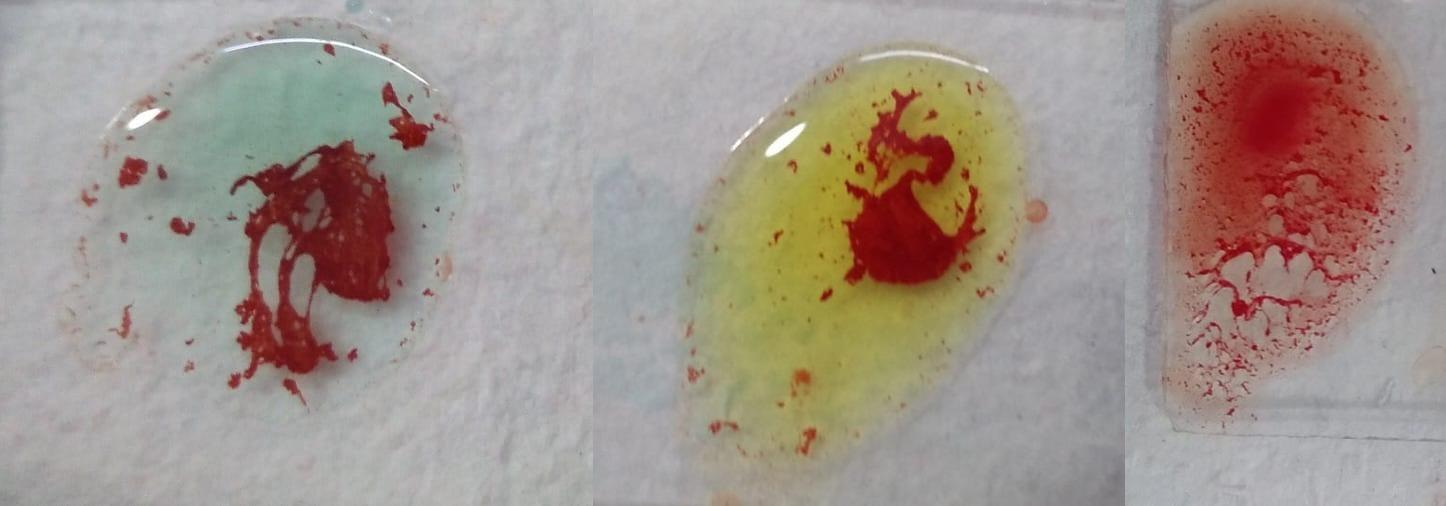A: (66, 26, 464, 429)
B: (682, 27, 1026, 459)
D: (1176, 2, 1408, 395)
